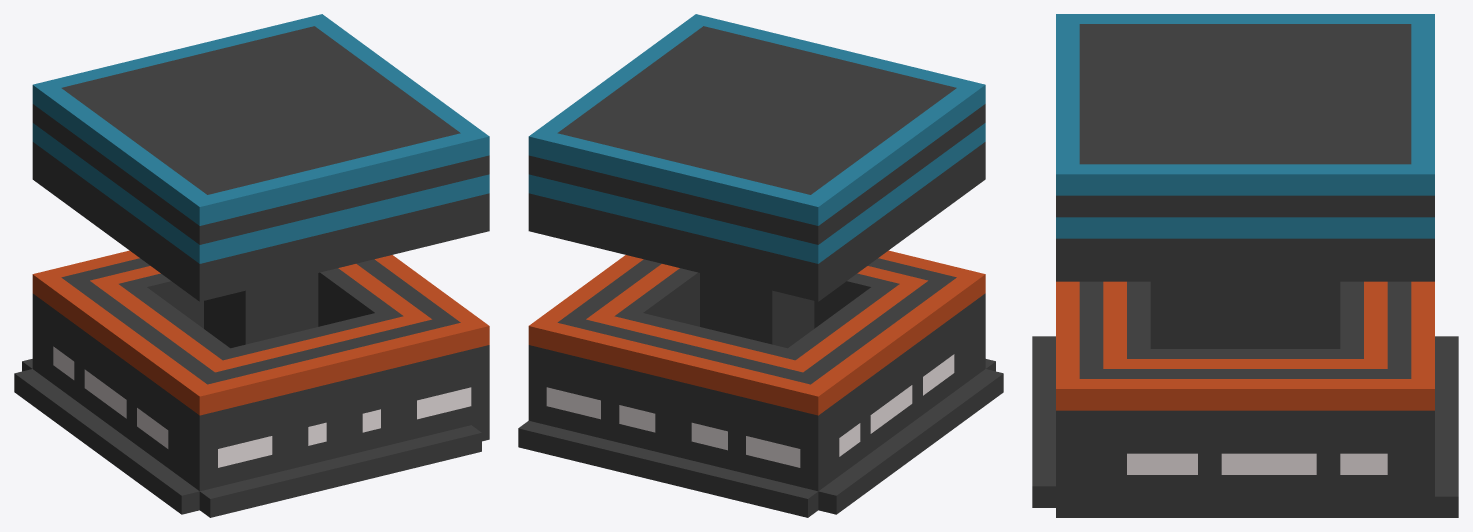
Rendered from torinoCyberPunk-29.obj.
3 views of the same model, side by side, from view 1: azimuth 30°, elevation 25°; view 2: azimuth 150°, elevation 25°; view 3: azimuth 270°, elevation 25° (orthographic). The views are drawn at different scales.
Bounding box in the file's own units: 1.7 × 1.6 × 1.8.
1 material, 1 textured.
